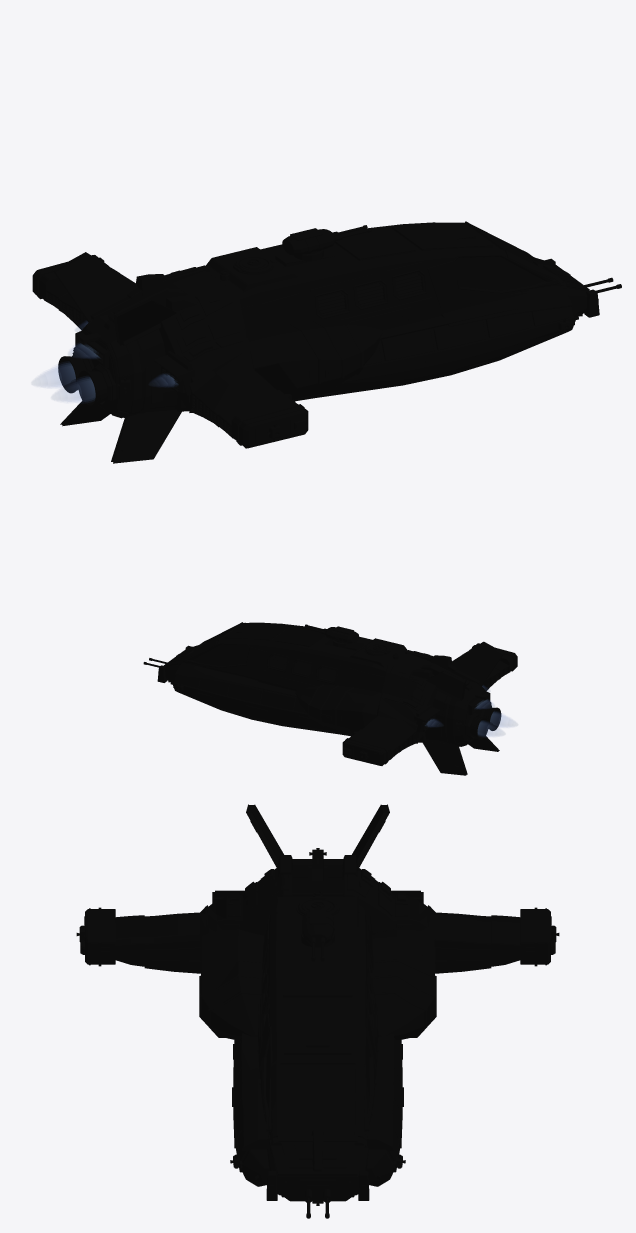
The model's file is plume_t075_occ.glb.
3 views of the same model, one above another, from view 1: azimuth 30°, elevation 25°; view 2: azimuth 150°, elevation 25°; view 3: azimuth 270°, elevation 25° (orthographic). The views are drawn at different scales.
Visible parts, largest first — view 1: HullOccluder; view 2: HullOccluder, Plume_Main_L, Plume_Main_R; view 3: HullOccluder.
Boxes of the visible parts, box(x1,y1,x2,y2) form: HullOccluder: box(32, 221, 621, 463); HullOccluder: box(143, 622, 517, 775); Plume_Main_L: box(478, 721, 503, 735); Plume_Main_R: box(490, 712, 515, 726); HullOccluder: box(76, 804, 559, 1218).
Size of the model in its own units: 18.25 by 5.33 by 12.99.
Materials: 3 (2 with a texture image).
